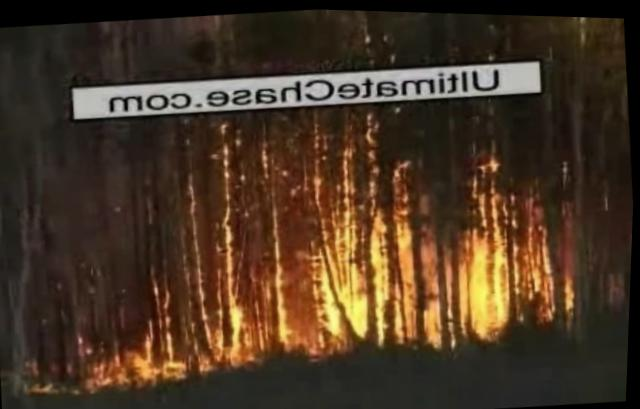fire: (21, 1, 634, 408)
